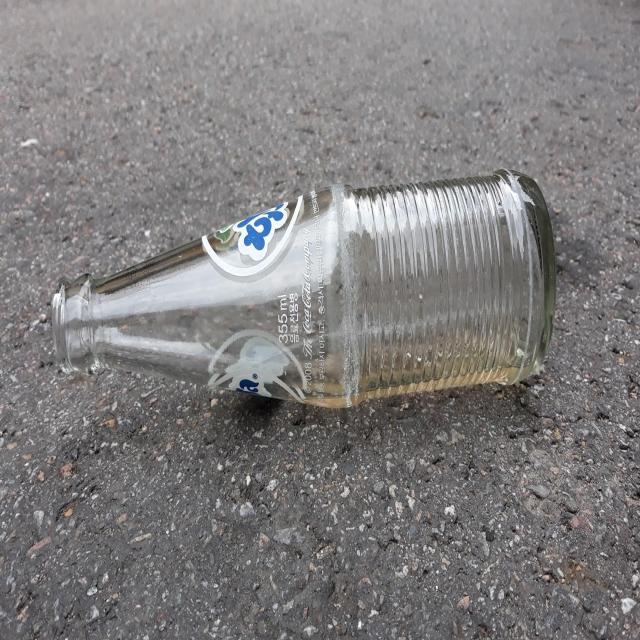glass: (51, 169, 556, 407)
